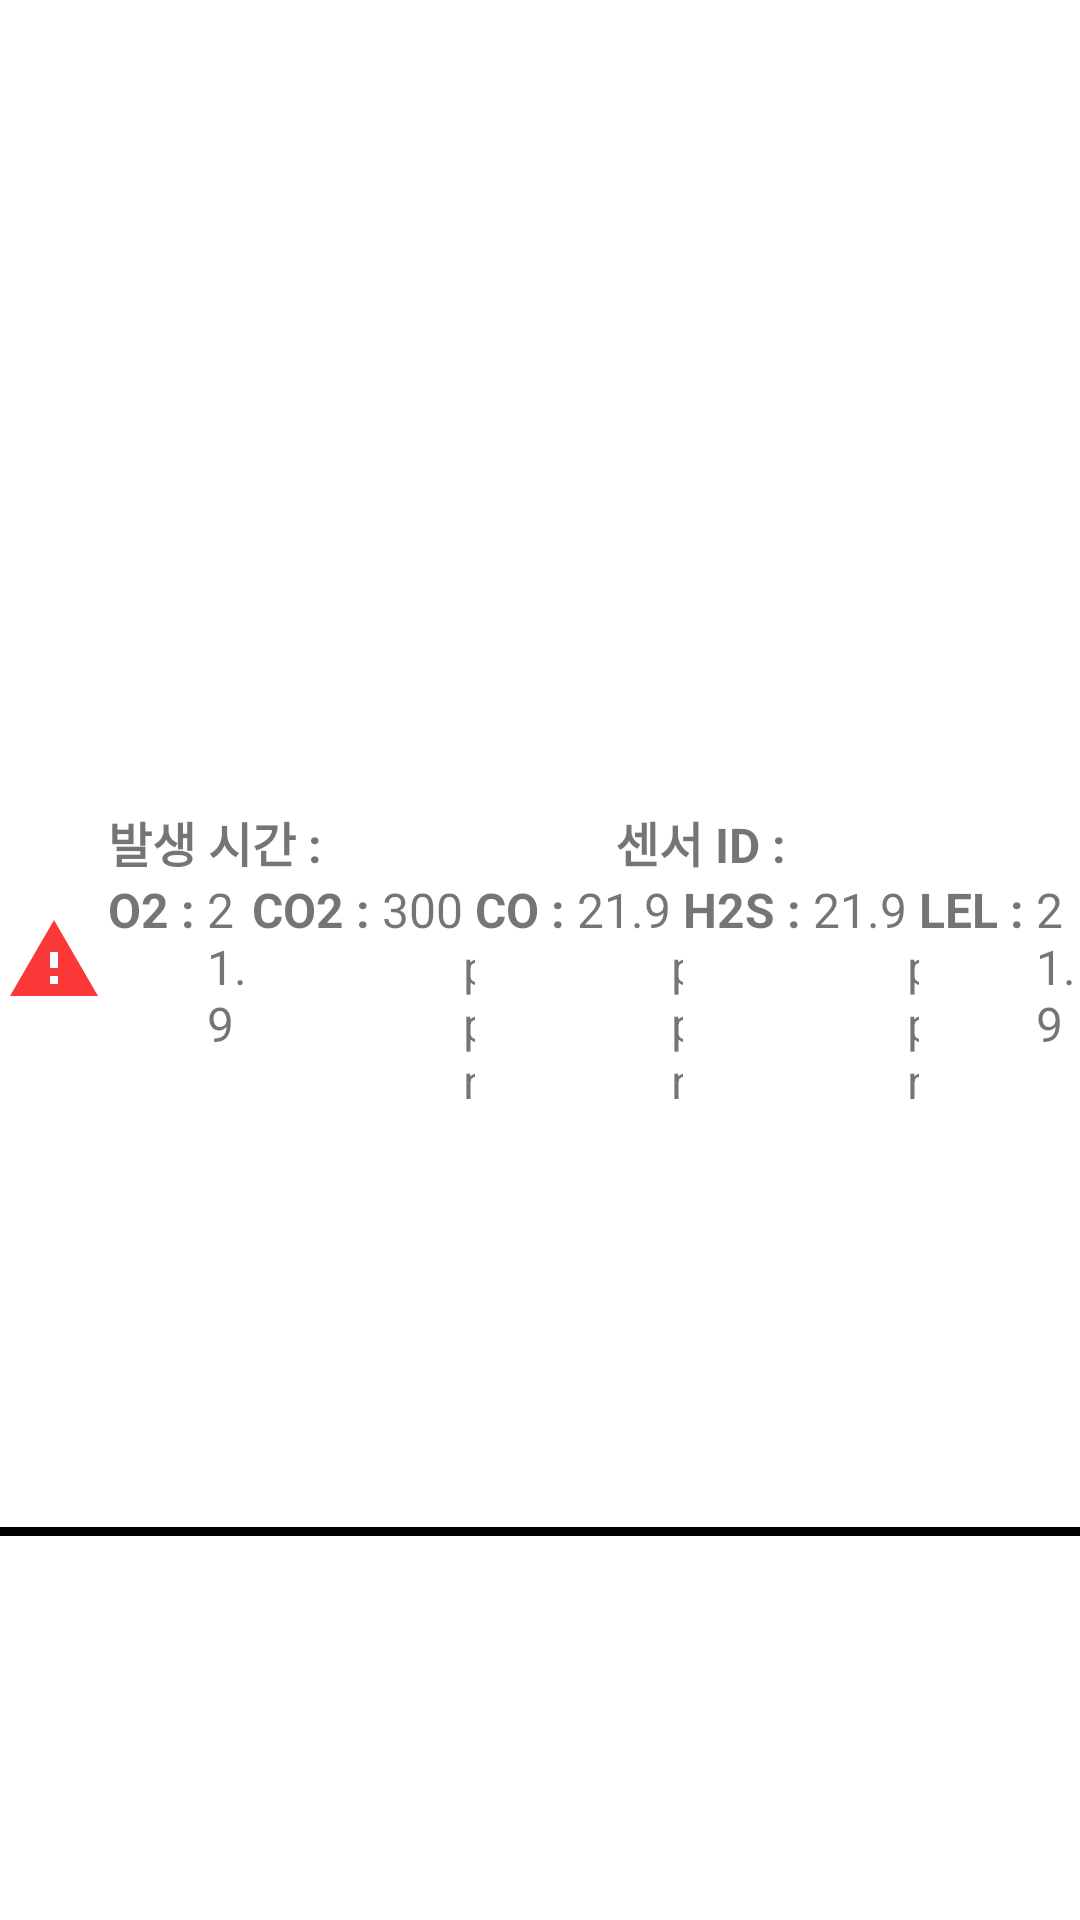

Icons on this 1080×1920 Android screen, each with its box as {"x1": x1, "y1": y1, "x2": x2, "y2": y2}:
warning: {"x1": 10, "y1": 920, "x2": 98, "y2": 996}
